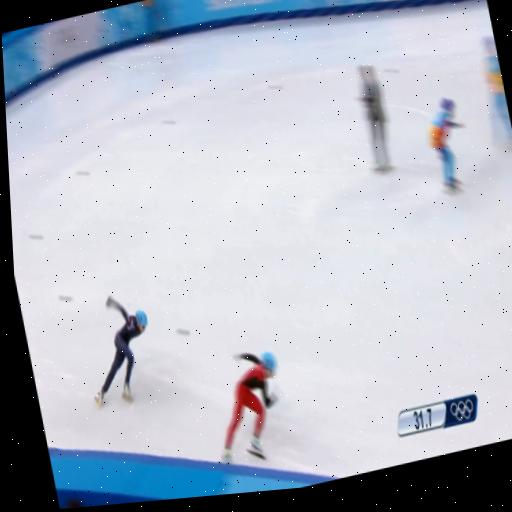Skater: (222, 352, 277, 462), (96, 297, 147, 406), (429, 98, 464, 190)
